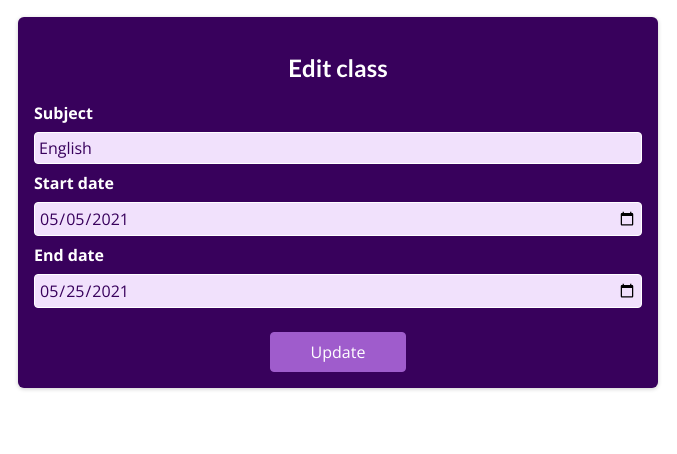
Edit class page › renders start date error if start date is empty
Clear the date field named "startDate-input": (338, 219) [34,202,642,236]
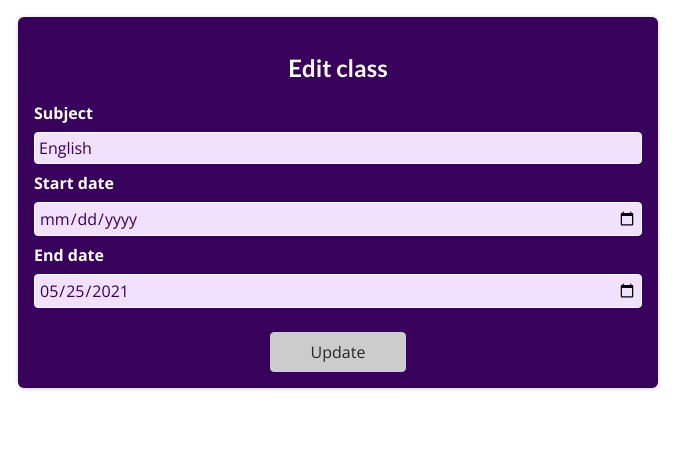
Leave the date field named "startDate-input", box [34,202,642,236]
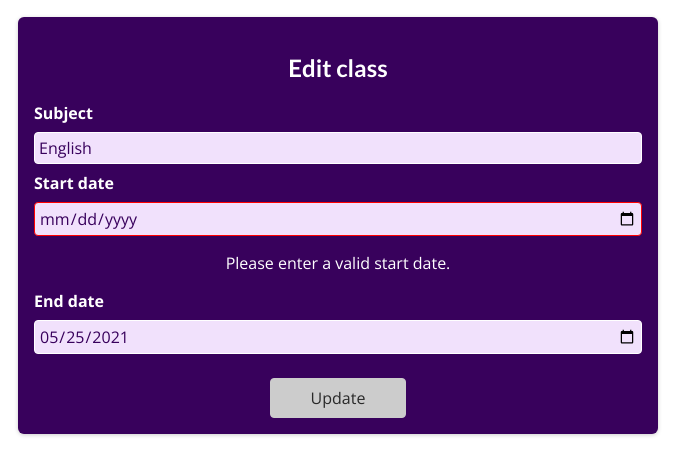
expect the text "Please enter a valid start date." is shown: met, box [226,252,450,274]
